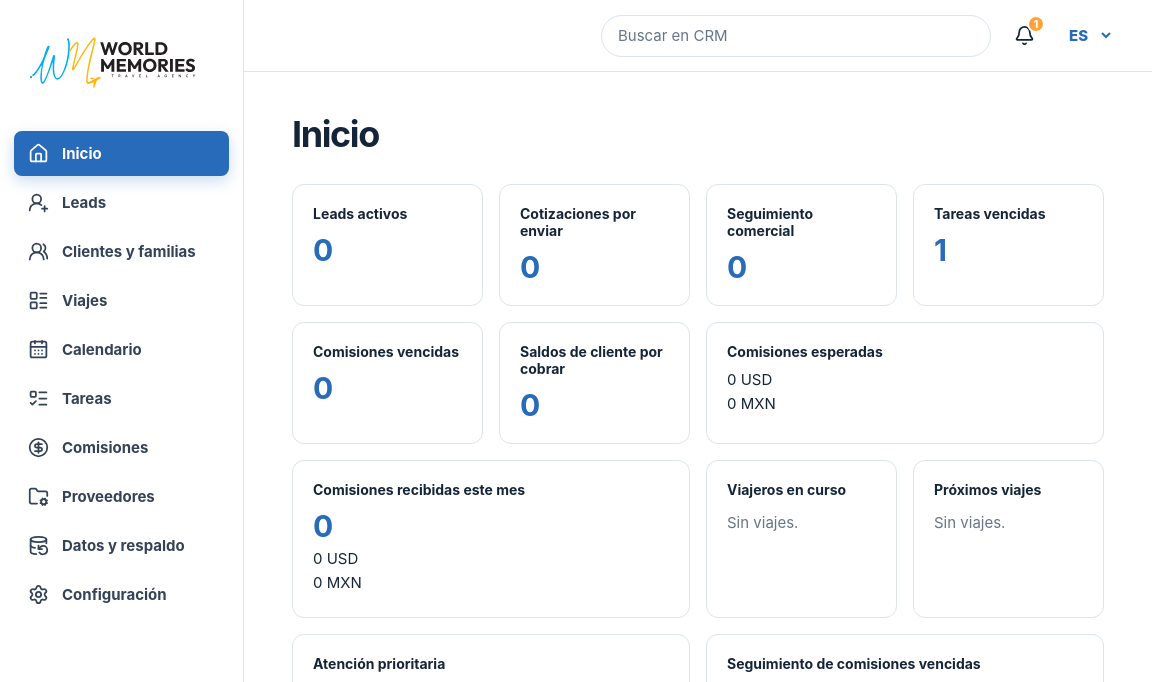
application shell › surfaces persisted overdue work in the notification center
What coordinates should you click on to do the following:
click the button named "Notificaciones (1)"
I would click on:
 (1024, 36)
Its box is 1005,16 -> 1043,54.
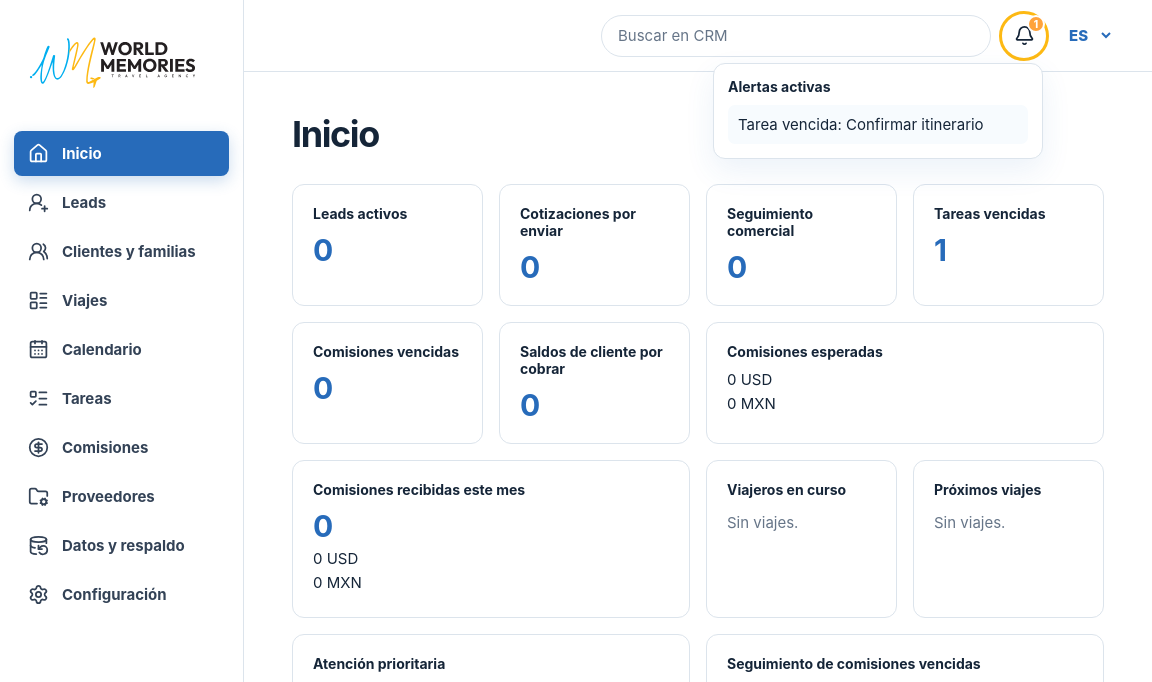
expect the button "Tarea vencida: Confirmar itinerario" is shown: met, box 728,104 -> 1028,144
